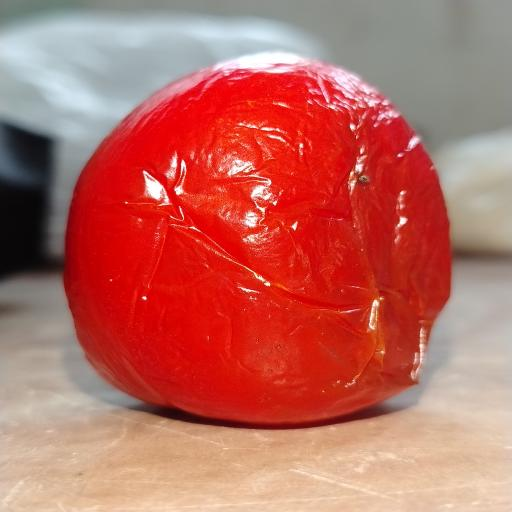spoiled: (66, 54, 450, 423)
